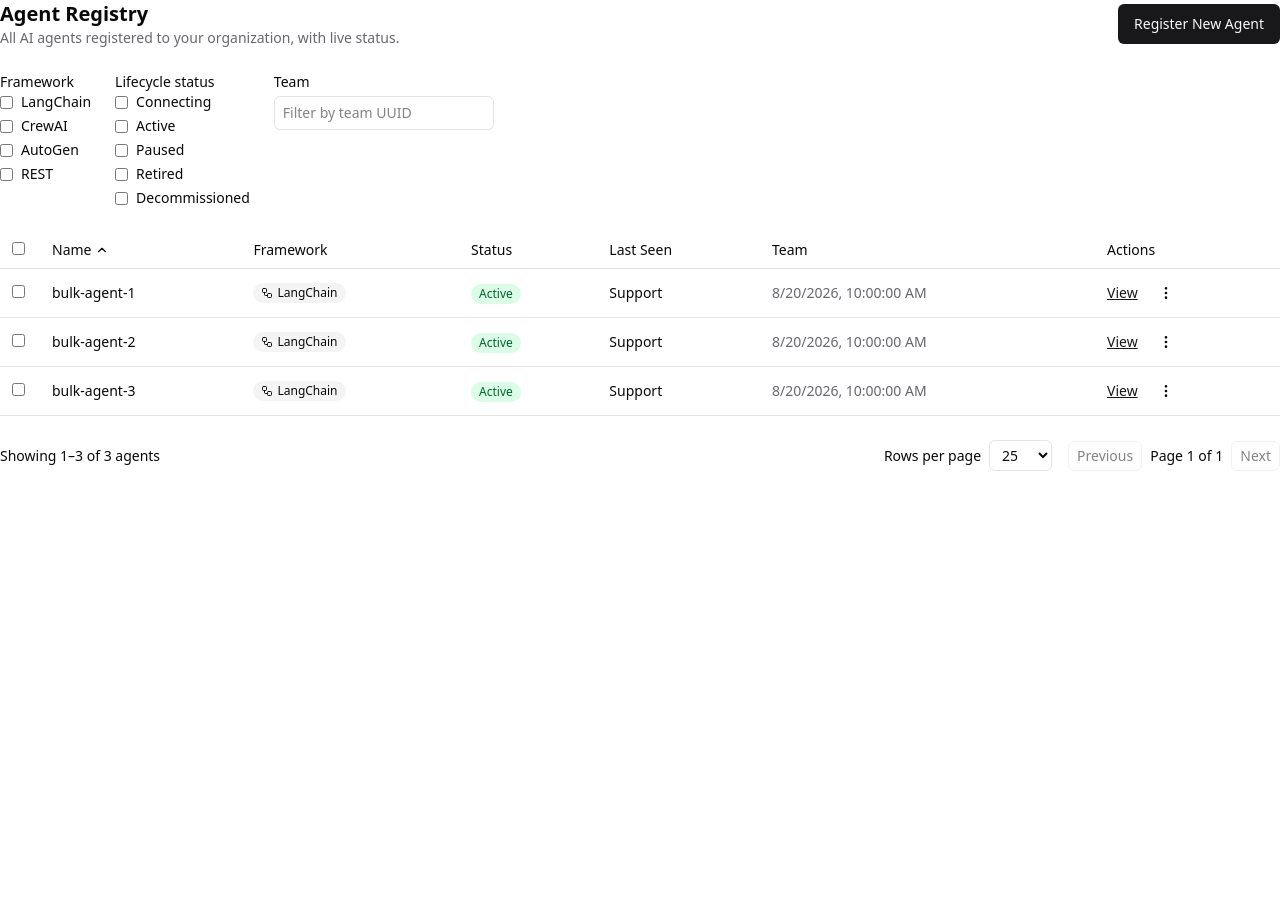
AgentRegistryPage — lifecycle management (WO-081) › bulk retire with partial failure: toolbar action -> bulk confirmation -> POST -> results dialog shows 2 successes and 1 failure with error detail
The image size is (1280, 900).
expect the text "bulk-agent-1" is shown: met, box [40, 268, 242, 318]
Step 1. Click the checkbox named "Select all agents on this page" → (18, 248), box [12, 242, 25, 255]
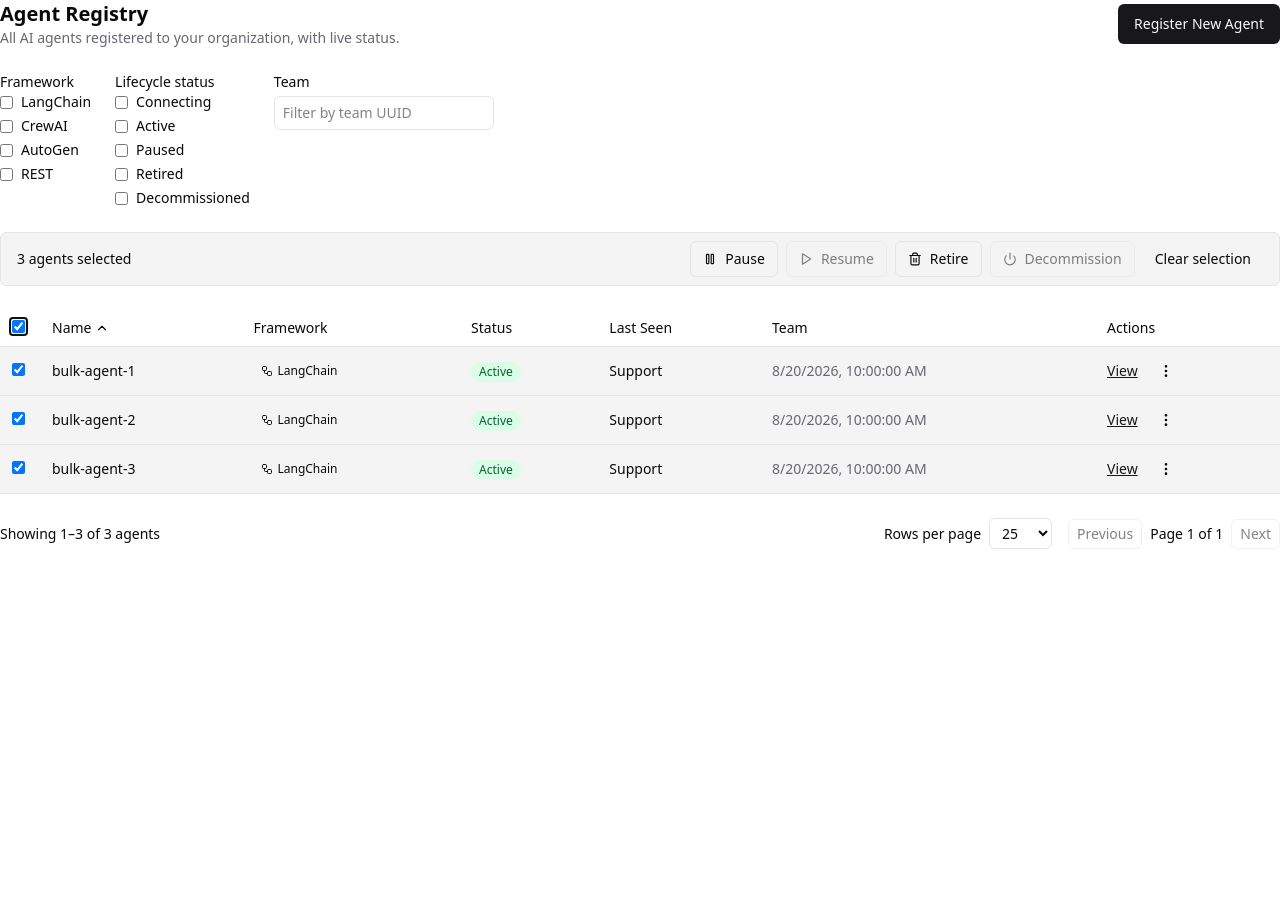
Step 2. Click the button "Retire" → (938, 259), box [895, 241, 982, 277]
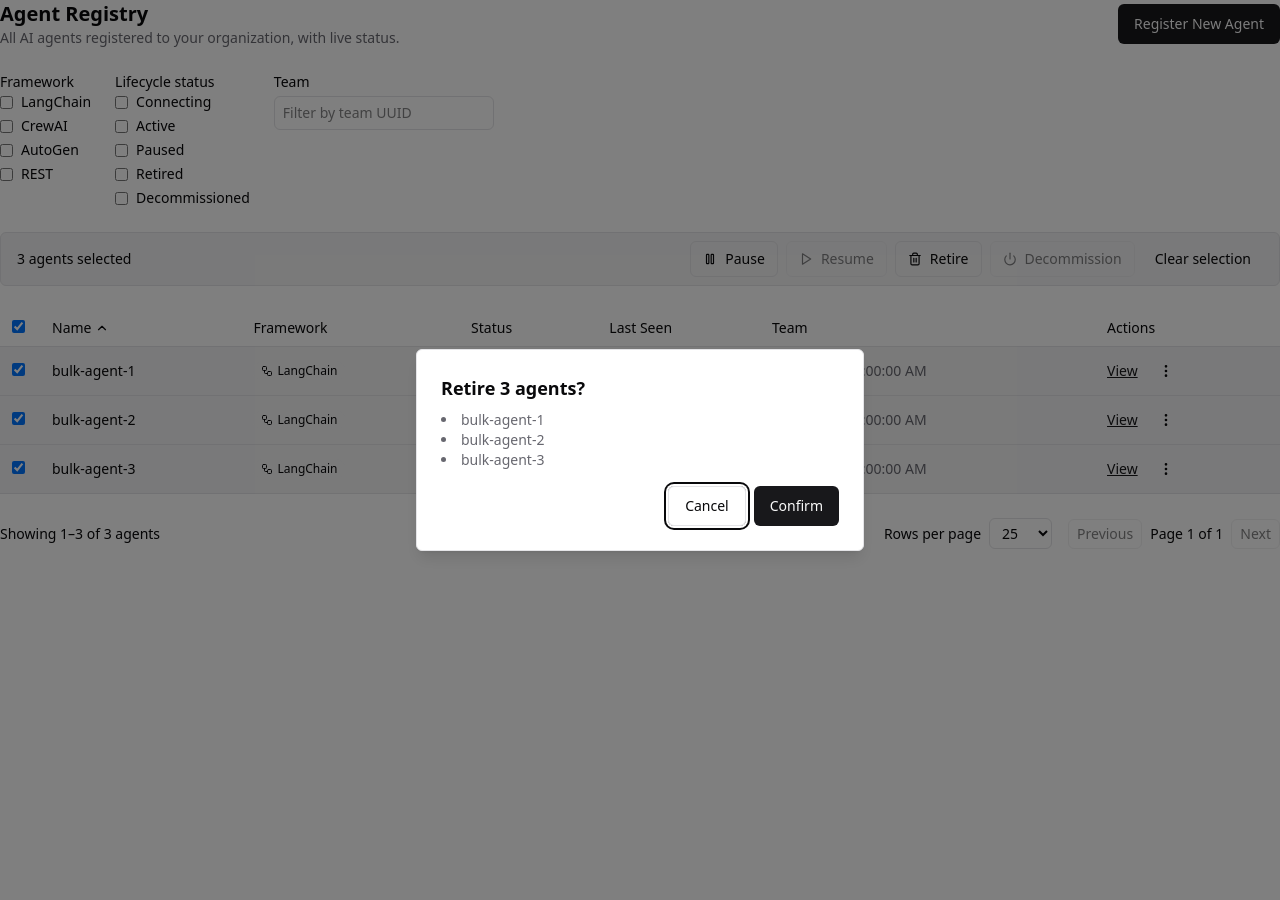
expect the heading "Retire 3 agents?" is shown: met, box [441, 376, 585, 400]
Step 3. Click the button "Confirm" → (796, 506), box [754, 486, 839, 526]
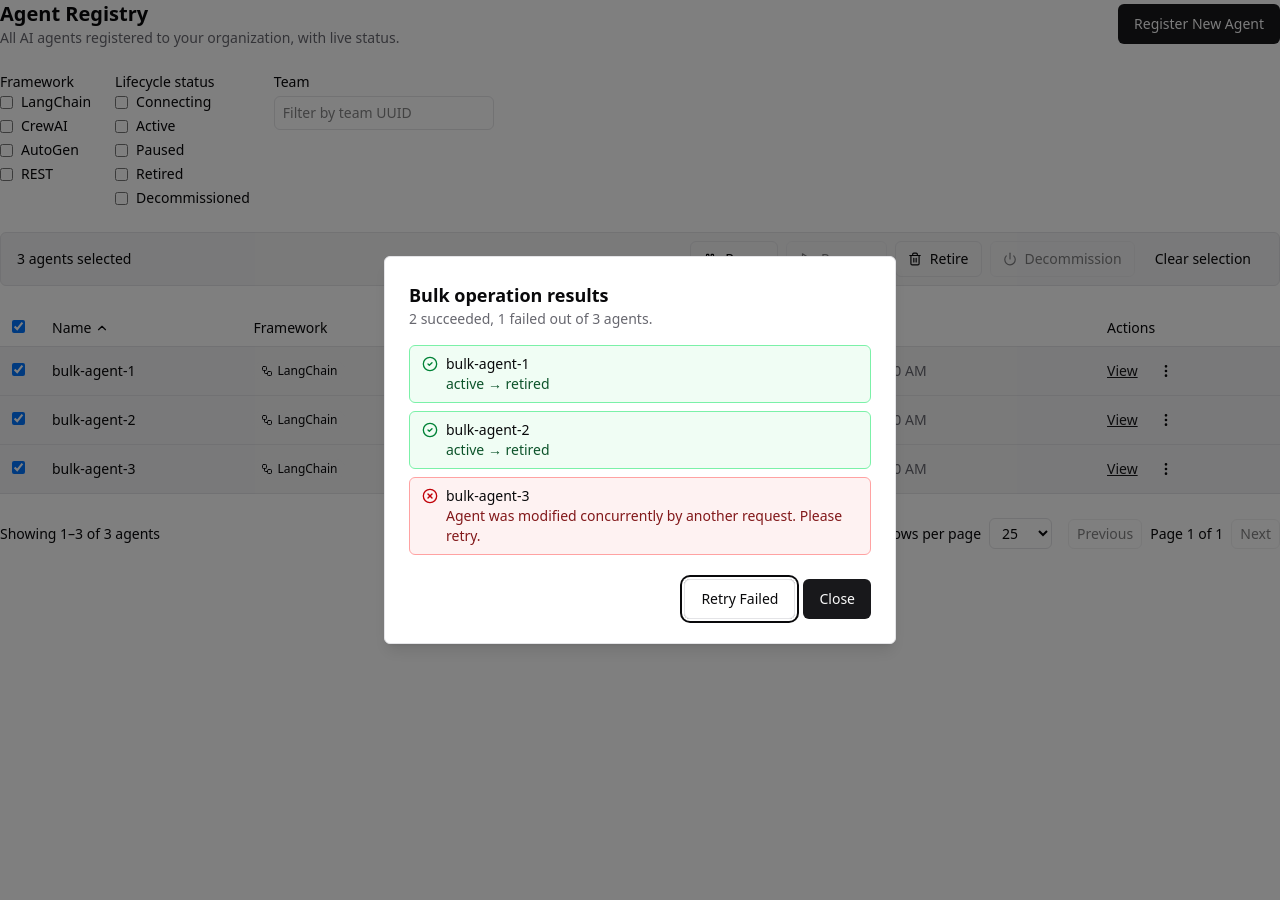
expect the text "2 succeeded, 1 failed out of 3 agents." is shown: met, box [409, 309, 652, 328]
